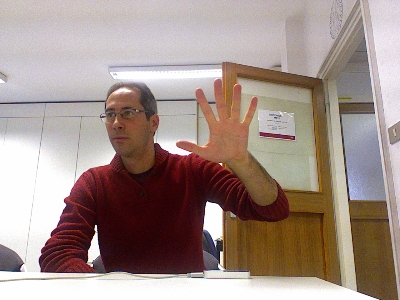布: (174, 76, 259, 164)
